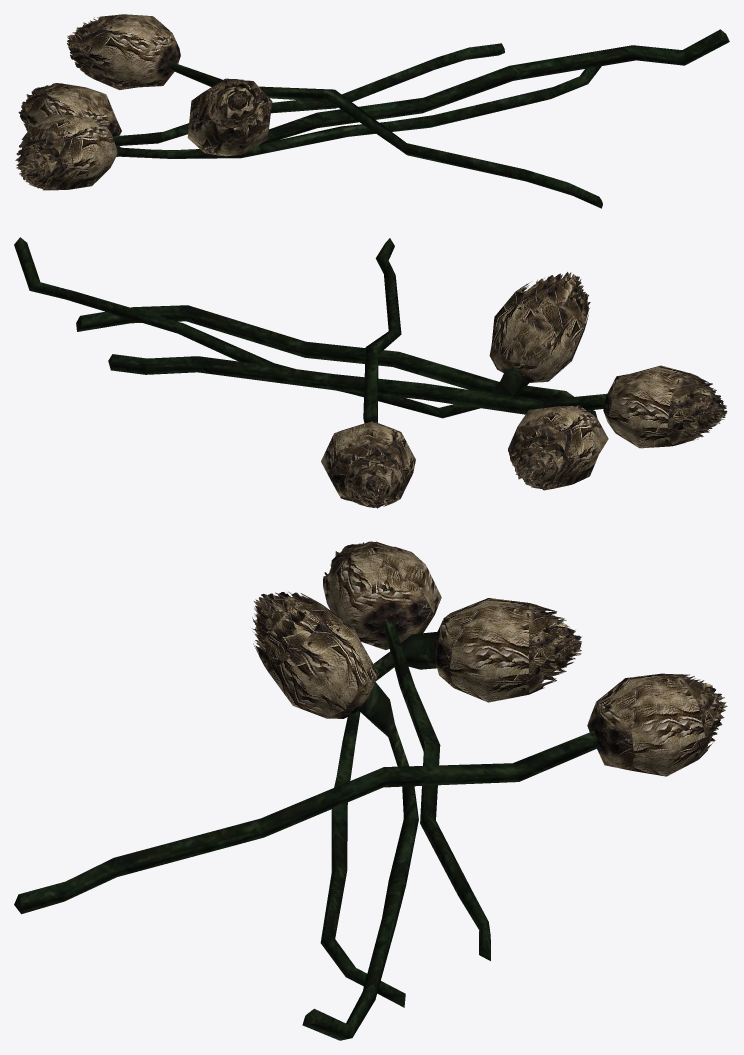
The model's file is rotten_roses.dae.
3 renders of one model, top to bottom at view 1: azimuth 30°, elevation 25°; view 2: azimuth 150°, elevation 25°; view 3: azimuth 270°, elevation 25°, orthographic. The views are drawn at different scales.
Visible parts, largest first — view 1: polySurface20, polySurface19; view 2: polySurface20, polySurface19; view 3: polySurface20, polySurface19.
Part boxes in pixels (x1,y1,x2,y2): polySurface20: (15, 14, 272, 190); polySurface19: (112, 29, 729, 208); polySurface20: (321, 272, 727, 508); polySurface19: (14, 237, 606, 423); polySurface20: (251, 541, 727, 776); polySurface19: (14, 618, 598, 1040).
Bounding box in the file's own units: 1.21 × 0.2013 × 0.8367.
